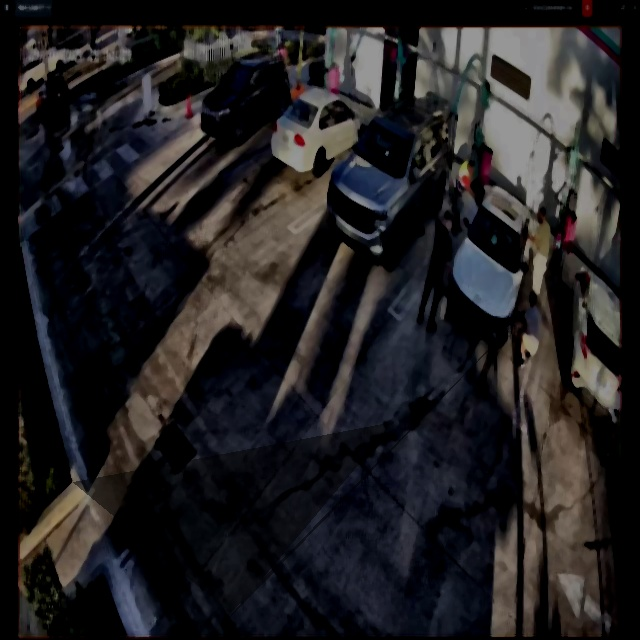Car: (328, 99, 452, 266), (447, 183, 533, 347), (273, 85, 368, 177)
